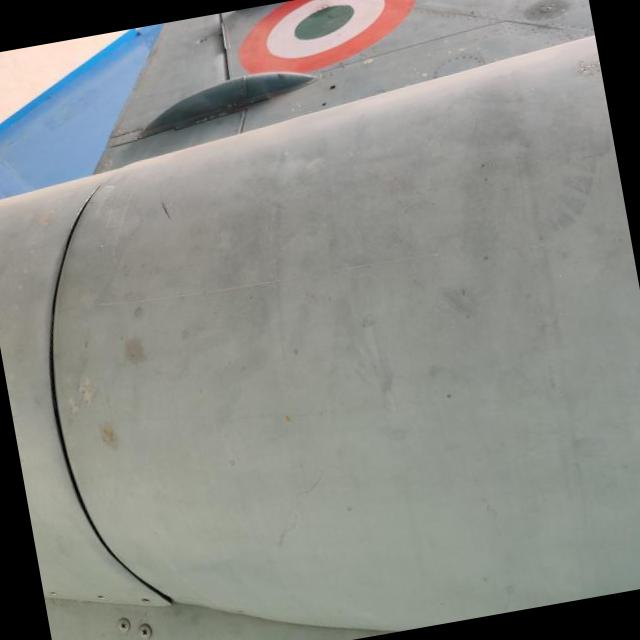Scratch: (87, 246, 445, 309)
